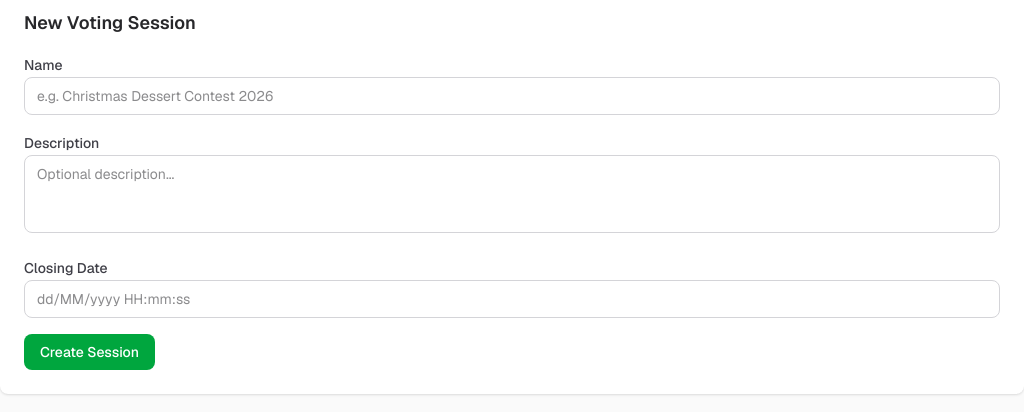
Test: CreateSessionForm › disables button while submitting
This screenshot has width=1024, height=412.
In the field labelled "Name": coordinates (512, 96) [24,77,1000,115], type "Christmas 2026"
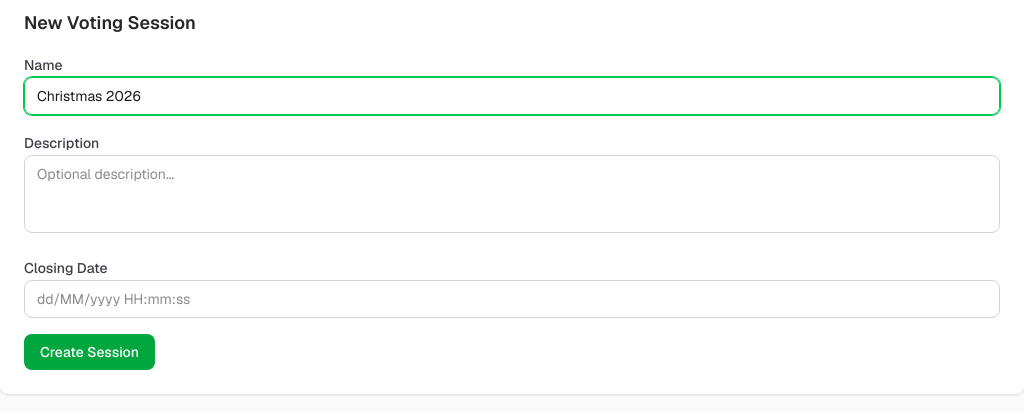
In the field labelled "Closing Date": coordinates (512, 299) [24,280,1000,318], type "25/12/2026 23:59:59"
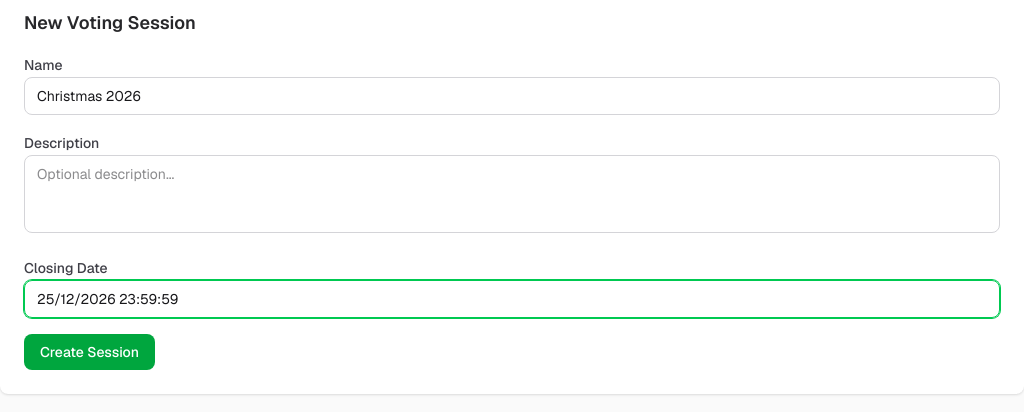
Click the button "Create Session": coordinates (90, 352) [24,334,155,370]
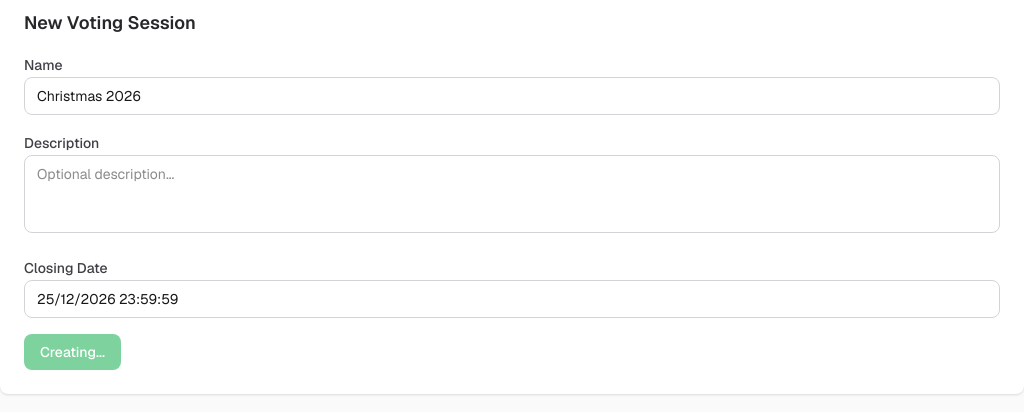
Check: the button "Creating..." is disabled, box [24,334,121,370]
